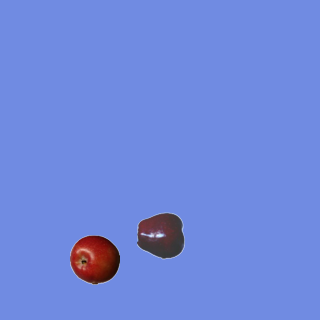Apple Braeburn: (69, 234, 119, 284)
Apple Red Delicious: (136, 210, 186, 260)
